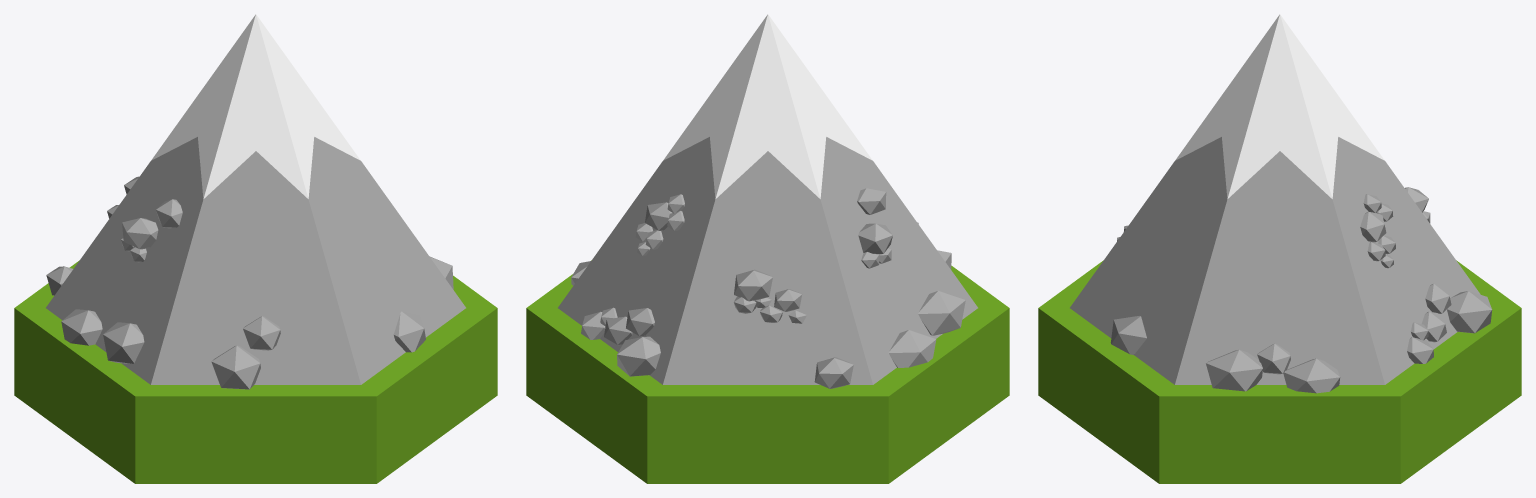
Rendered from Montaña_Hex.fbx.
The picture shows the model from 3 angles, left to right: view 1: azimuth 30°, elevation 25°; view 2: azimuth 150°, elevation 25°; view 3: azimuth 270°, elevation 25°; orthographic projection.
Parts seen in each view (by area): view 1: Montaña; view 2: Montaña; view 3: Montaña.
Part boxes in pixels (x1,y1,x2,y2): Montaña: (14,14,497,483); Montaña: (526,14,1009,483); Montaña: (1038,14,1521,483).
Bounding box in the file's own units: 86.6 × 87.14 × 100.
Materials: 1 (1 with a texture image).
